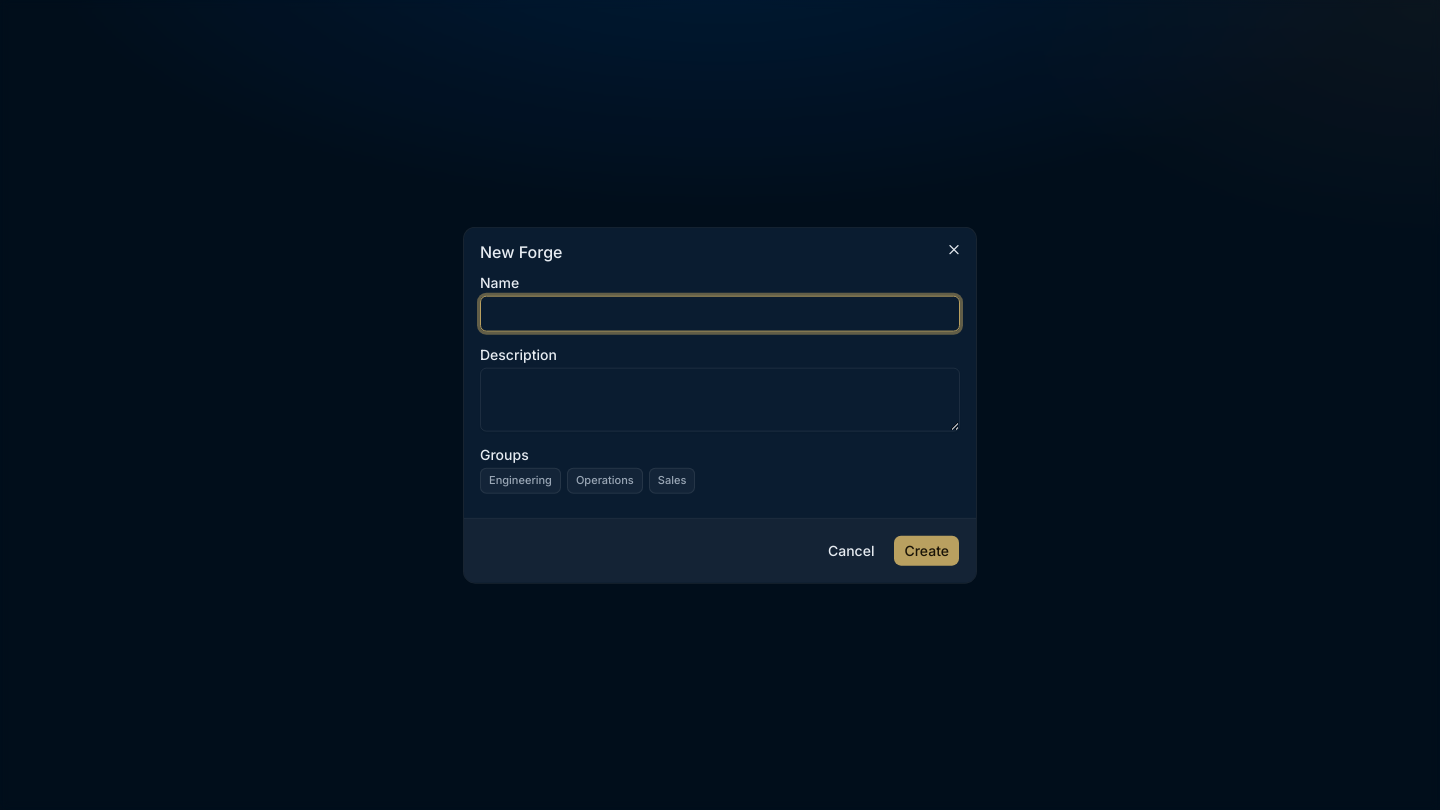
Test case: ForgeFormModal › blocks submit when name has illegal characters
The width and height of the screenshot is (1440, 810).
In the field labelled "Name": (720, 314) [480,296,960,332], type "Bad!Name"
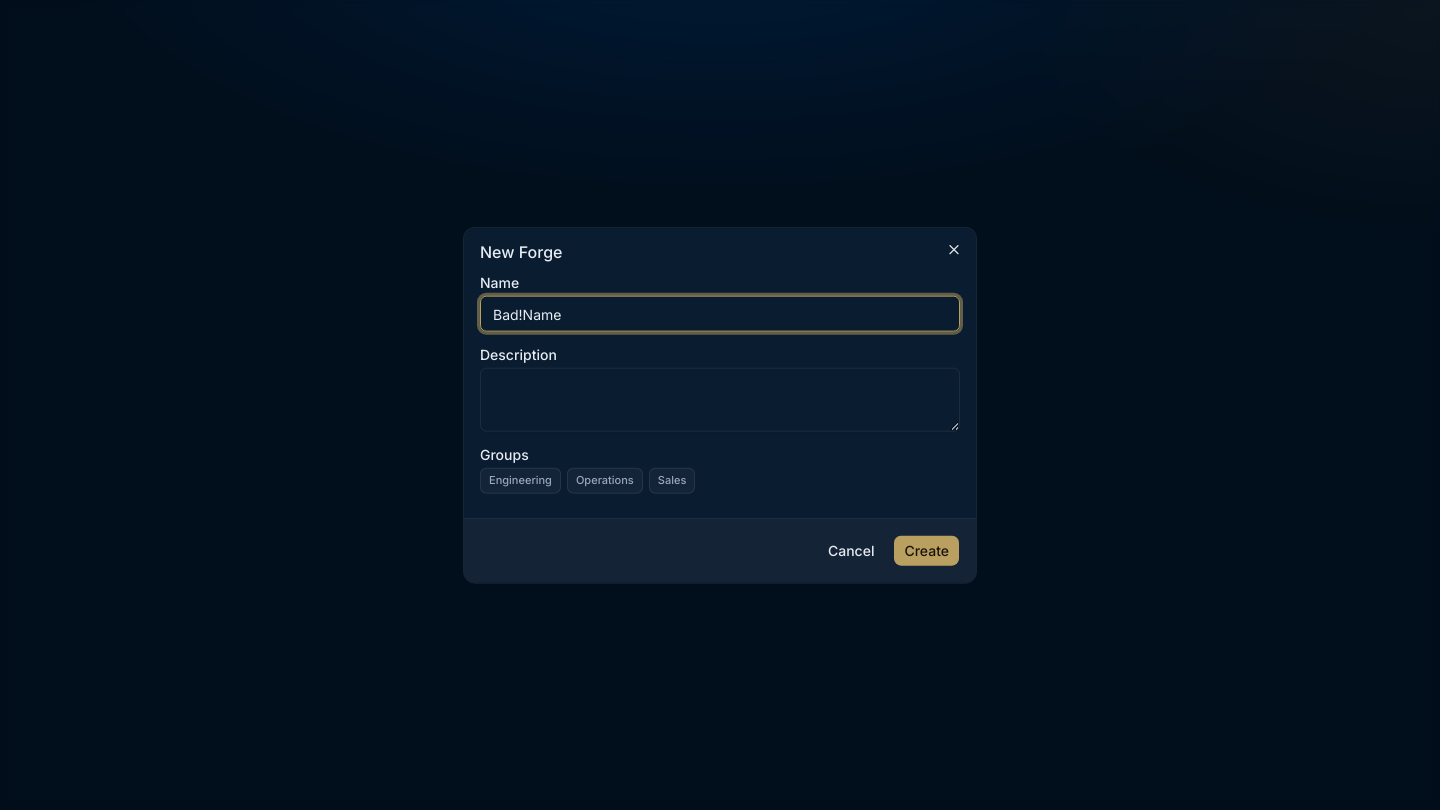
Click the button "Engineering": (520, 480) [480,468,561,493]
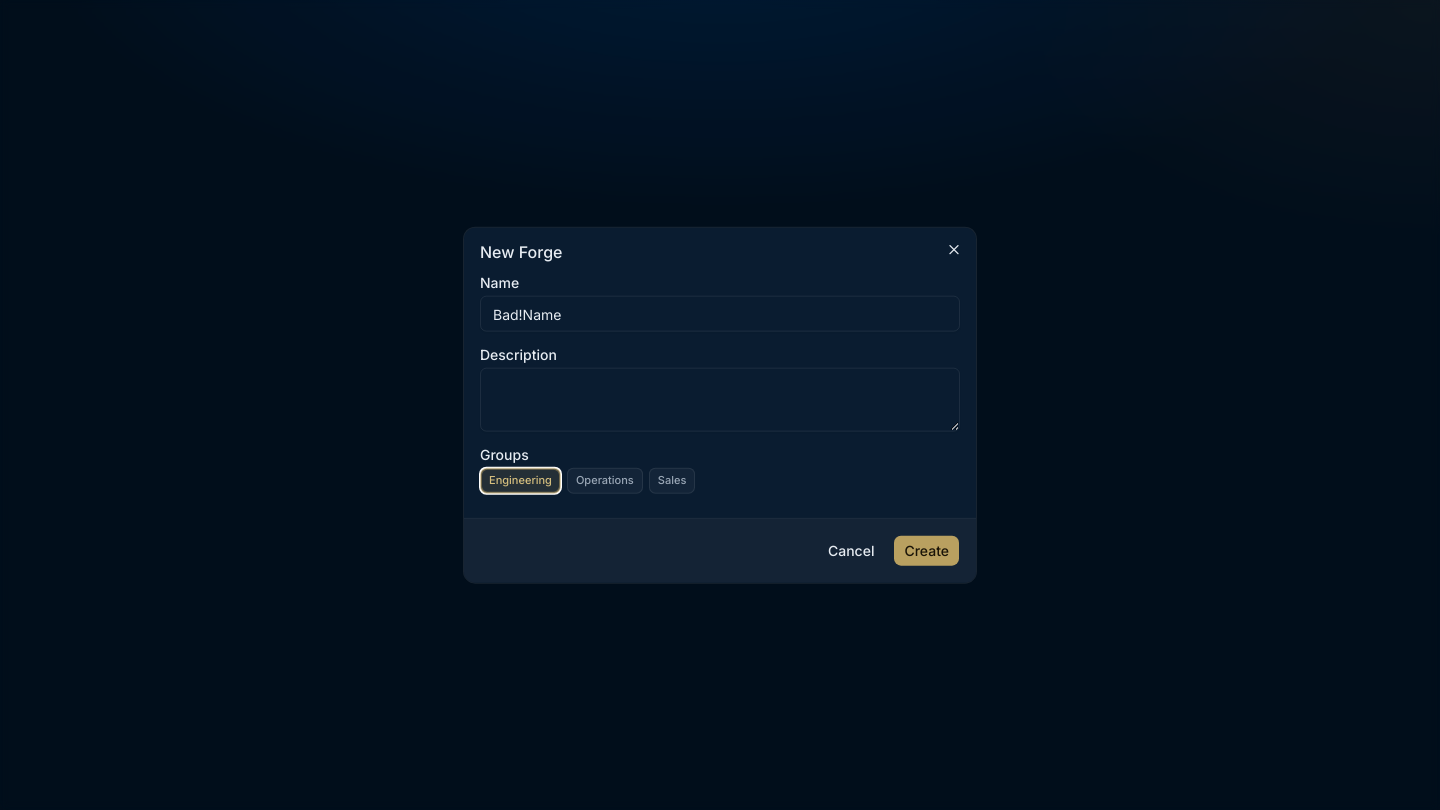
Click the button "Create": (927, 550) [893,534,960,566]
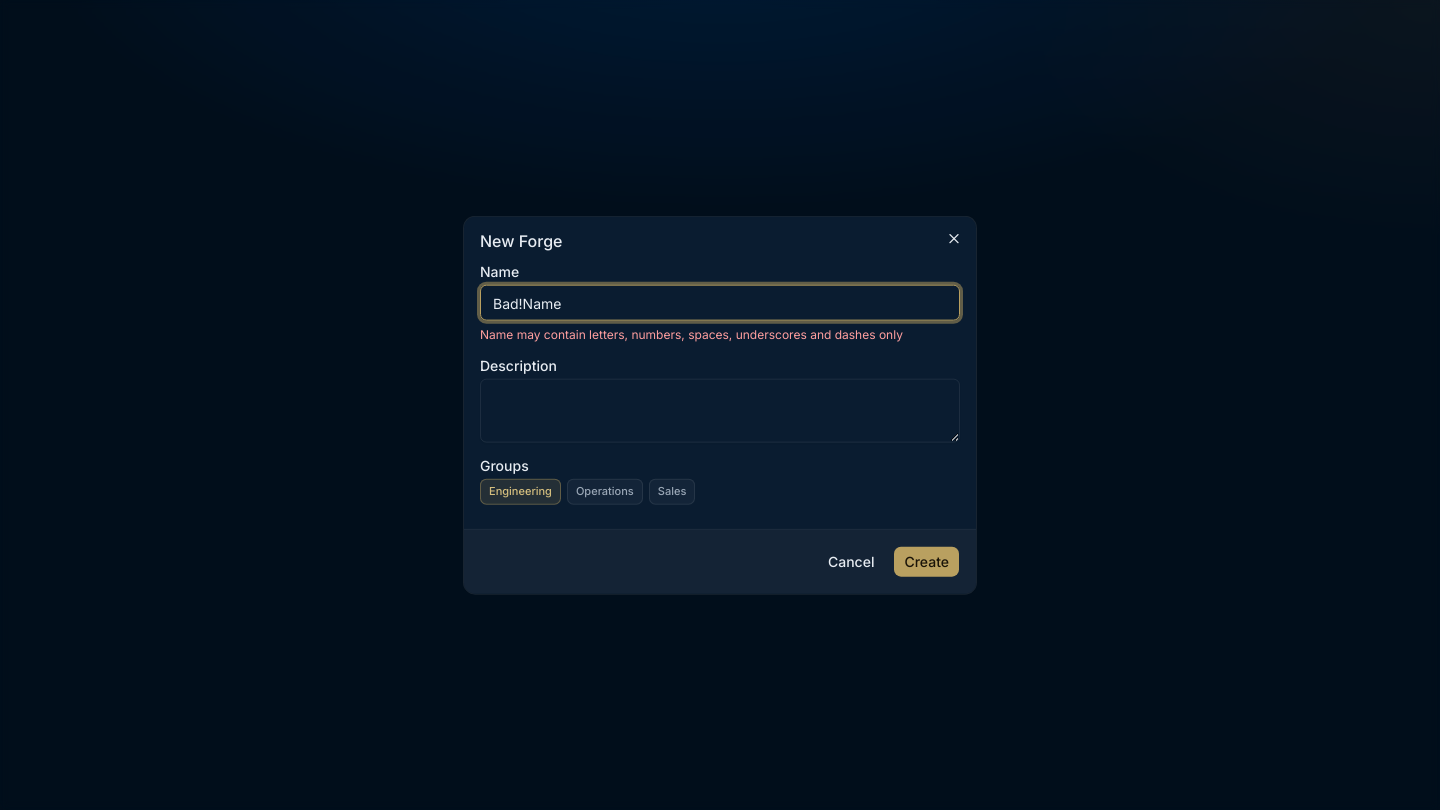
Result: the text "letters, numbers, spaces, underscores and dashes" is shown at [480,327,903,342]
